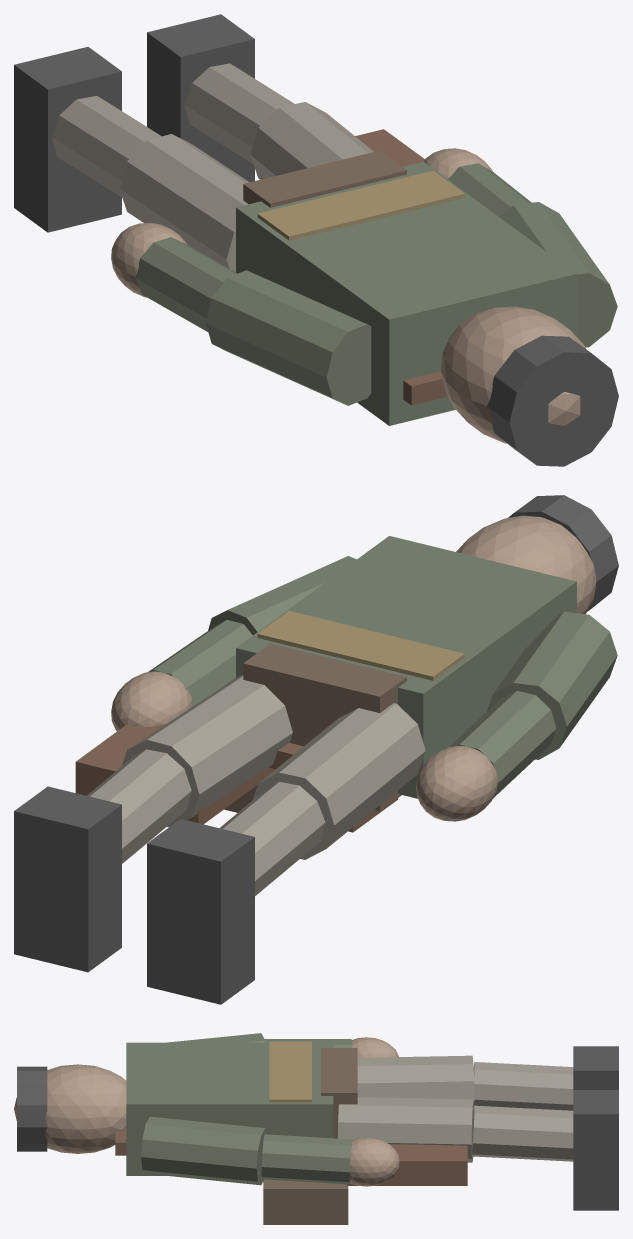
Rendered from SM_CharacterMerchant_Preview.glb.
3 views of the same model, one above another, from view 1: azimuth 30°, elevation 25°; view 2: azimuth 150°, elevation 25°; view 3: azimuth 270°, elevation 25° (orthographic). The views are drawn at different scales.
Visible parts, largest first — view 1: SM_CharacterMerchant_Preview_017, SM_CharacterMerchant_Preview_010, SM_CharacterMerchant_Preview_011, SM_CharacterMerchant_Preview_015, SM_CharacterMerchant_Preview_013, SM_CharacterMerchant_Preview_005, SM_CharacterMerchant_Preview_016, SM_CharacterMerchant_Preview_000, SM_CharacterMerchant_Preview_012, SM_CharacterMerchant_Preview_006, SM_CharacterMerchant_Preview_007, SM_CharacterMerchant_Preview_004 (+7 smaller); view 2: SM_CharacterMerchant_Preview_017, SM_CharacterMerchant_Preview_005, SM_CharacterMerchant_Preview_011, SM_CharacterMerchant_Preview_013, SM_CharacterMerchant_Preview_007, SM_CharacterMerchant_Preview_014, SM_CharacterMerchant_Preview_010, SM_CharacterMerchant_Preview_000, SM_CharacterMerchant_Preview_016, SM_CharacterMerchant_Preview_012, SM_CharacterMerchant_Preview_006, SM_CharacterMerchant_Preview_009 (+6 smaller); view 3: SM_CharacterMerchant_Preview_017, SM_CharacterMerchant_Preview_004, SM_CharacterMerchant_Preview_016, SM_CharacterMerchant_Preview_007, SM_CharacterMerchant_Preview_005, SM_CharacterMerchant_Preview_006, SM_CharacterMerchant_Preview_013, SM_CharacterMerchant_Preview_012, SM_CharacterMerchant_Preview_003, SM_CharacterMerchant_Preview_001, SM_CharacterMerchant_Preview_024, SM_CharacterMerchant_Preview_000 (+8 smaller).
Part boxes in pixels (x1,y1,x2,y2): SM_CharacterMerchant_Preview_017: [236, 161, 576, 425]; SM_CharacterMerchant_Preview_010: [205, 270, 371, 405]; SM_CharacterMerchant_Preview_011: [14, 47, 121, 232]; SM_CharacterMerchant_Preview_015: [487, 335, 618, 466]; SM_CharacterMerchant_Preview_013: [119, 134, 248, 272]; SM_CharacterMerchant_Preview_005: [147, 14, 254, 182]; SM_CharacterMerchant_Preview_016: [441, 306, 585, 443]; SM_CharacterMerchant_Preview_000: [257, 170, 464, 240]; SM_CharacterMerchant_Preview_012: [52, 96, 161, 197]; SM_CharacterMerchant_Preview_006: [184, 63, 294, 163]; SM_CharacterMerchant_Preview_007: [250, 102, 373, 179]; SM_CharacterMerchant_Preview_004: [499, 202, 617, 347]; SM_CharacterMerchant_Preview_017: [236, 536, 576, 798]; SM_CharacterMerchant_Preview_005: [14, 786, 121, 972]; SM_CharacterMerchant_Preview_011: [147, 819, 254, 1004]; SM_CharacterMerchant_Preview_013: [252, 703, 425, 859]; SM_CharacterMerchant_Preview_007: [122, 675, 292, 827]; SM_CharacterMerchant_Preview_014: [243, 643, 406, 811]; SM_CharacterMerchant_Preview_010: [486, 611, 617, 759]; SM_CharacterMerchant_Preview_000: [257, 611, 464, 680]; SM_CharacterMerchant_Preview_016: [456, 515, 596, 614]; SM_CharacterMerchant_Preview_012: [219, 782, 325, 895]; SM_CharacterMerchant_Preview_006: [87, 749, 191, 863]; SM_CharacterMerchant_Preview_009: [450, 691, 556, 798]; SM_CharacterMerchant_Preview_017: [126, 1042, 333, 1175]; SM_CharacterMerchant_Preview_004: [141, 1116, 268, 1185]; SM_CharacterMerchant_Preview_016: [14, 1064, 126, 1153]; SM_CharacterMerchant_Preview_007: [338, 1097, 474, 1162]; SM_CharacterMerchant_Preview_005: [573, 1090, 618, 1210]; SM_CharacterMerchant_Preview_006: [472, 1105, 573, 1161]; SM_CharacterMerchant_Preview_013: [357, 1055, 474, 1102]; SM_CharacterMerchant_Preview_012: [473, 1062, 573, 1110]; SM_CharacterMerchant_Preview_003: [261, 1134, 352, 1184]; SM_CharacterMerchant_Preview_001: [263, 1179, 348, 1224]; SM_CharacterMerchant_Preview_024: [346, 1144, 467, 1185]; SM_CharacterMerchant_Preview_000: [269, 1041, 311, 1102].
Bounding box in the file's own units: 0.95 × 0.39 × 1.99.
